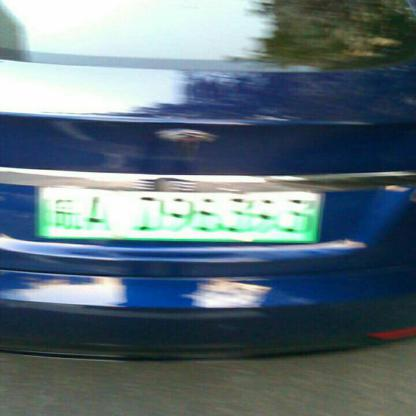lp: (40, 188, 316, 240)
